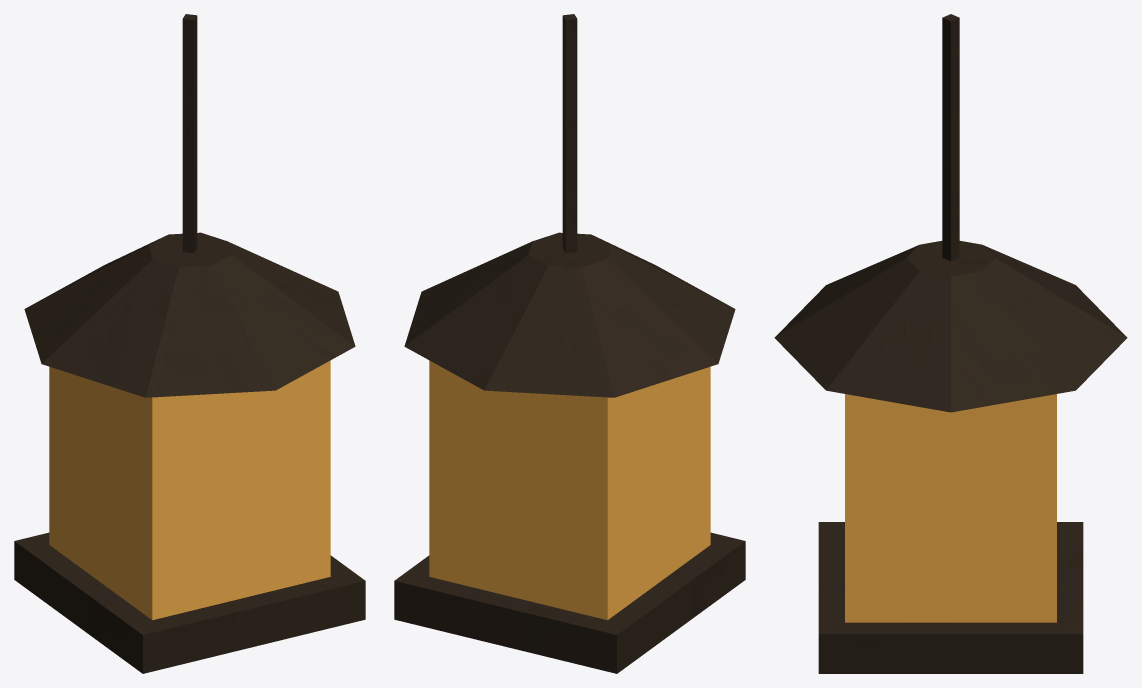
Rendered from hanging_lantern_01.glb.
3 renders of one model, left to right at view 1: azimuth 30°, elevation 25°; view 2: azimuth 150°, elevation 25°; view 3: azimuth 270°, elevation 25°, orthographic. The views are drawn at different scales.
Visible parts, largest first — view 1: hanging_lantern_01; view 2: hanging_lantern_01; view 3: hanging_lantern_01.
Boxes of the visible parts, box(x1,y1,x2,y2) form: hanging_lantern_01: box(14, 14, 365, 673); hanging_lantern_01: box(394, 14, 745, 673); hanging_lantern_01: box(774, 14, 1127, 673).
Bounding box in the file's own units: 0.4 × 0.75 × 0.4.
2 materials, 2 textured.
